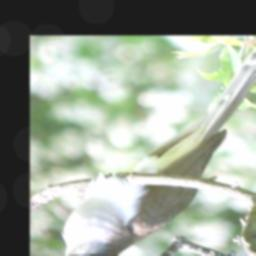Cuckoo: (51, 44, 256, 256)
